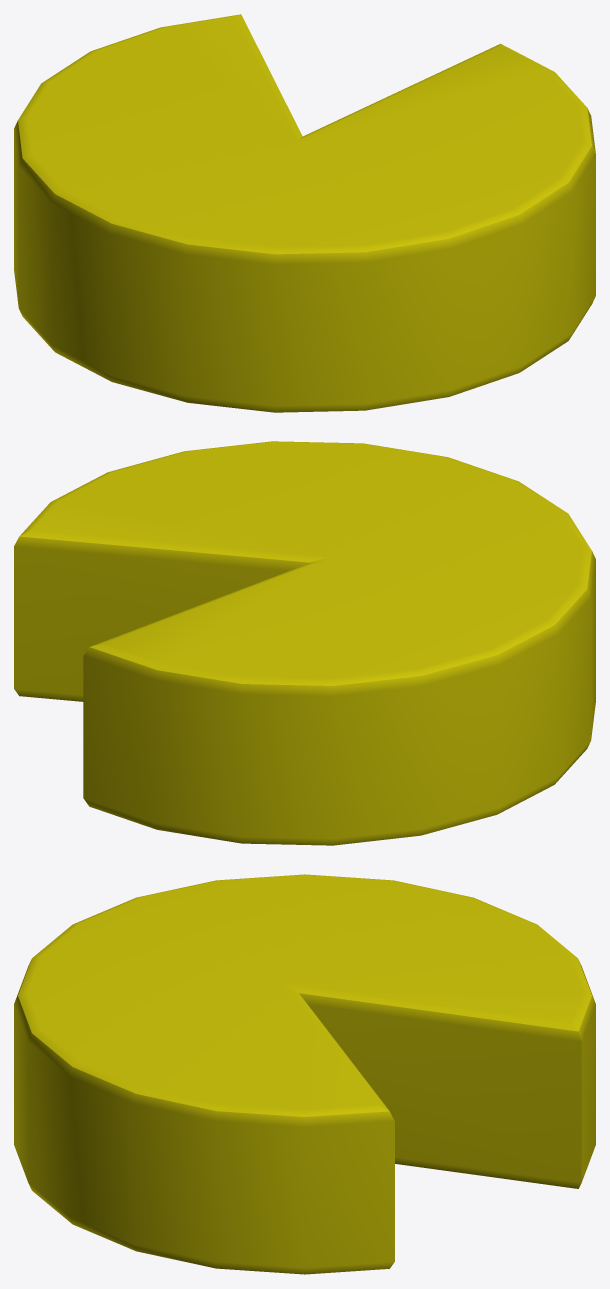
The model's file is Cheese_Mesh_01.fbx.
3 views of the same model, one above another, from view 1: azimuth 30°, elevation 25°; view 2: azimuth 150°, elevation 25°; view 3: azimuth 270°, elevation 25° (orthographic).
Parts seen in each view (by area): view 1: Cheese; view 2: Cheese; view 3: Cheese.
Part boxes in pixels (<box>): Cheese: <box>14,14,595,412</box>; Cheese: <box>14,441,595,845</box>; Cheese: <box>14,874,595,1274</box>.
Size of the model in its own units: 0.8545 by 0.2664 by 0.8545.
